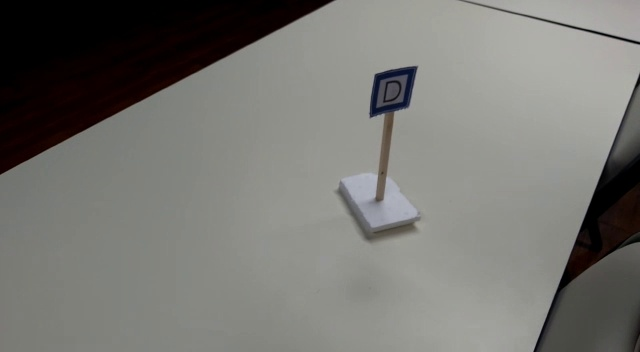durak: (372, 66, 416, 115)
